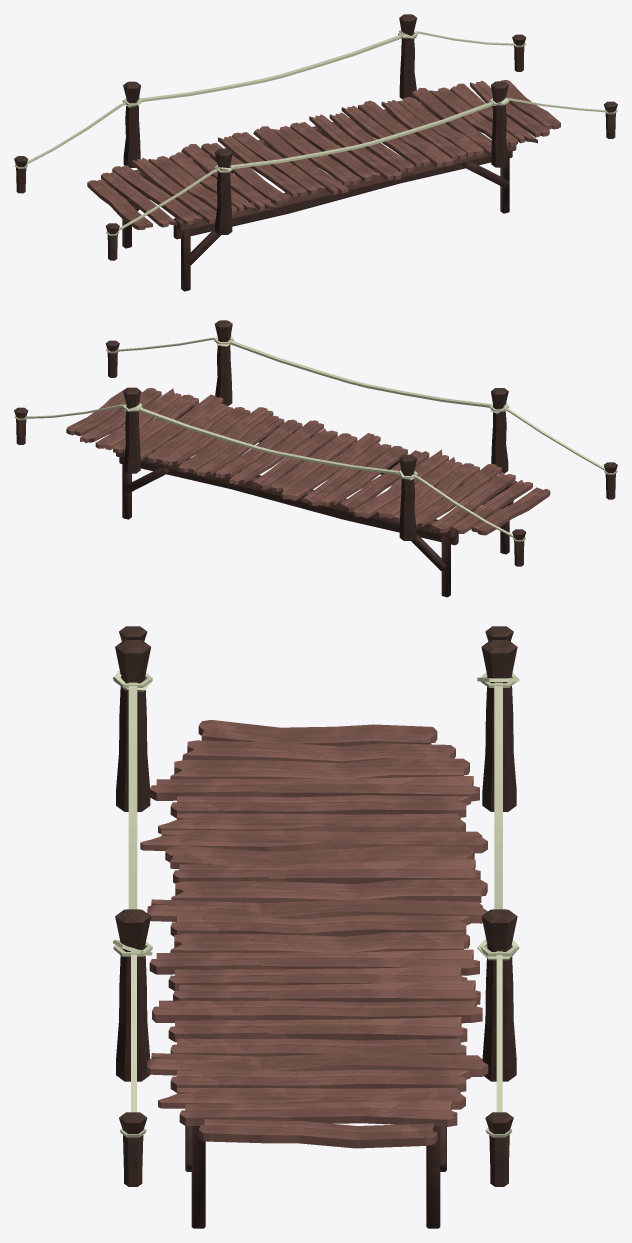
Rendered from bridgeFull.fbx.
The picture shows the model from 3 angles, top to bottom: view 1: azimuth 30°, elevation 25°; view 2: azimuth 150°, elevation 25°; view 3: azimuth 270°, elevation 25°; orthographic projection. The views are drawn at different scales.
Parts seen in each view (by area): view 1: Plane.001; view 2: Plane.001; view 3: Plane.001.
Boxes of the visible parts, bbox=[...] form: Plane.001: bbox=[14, 14, 617, 291]; Plane.001: bbox=[14, 320, 617, 597]; Plane.001: bbox=[112, 626, 519, 1228].
Size of the model in its own units: 3642 by 997 by 1261.
